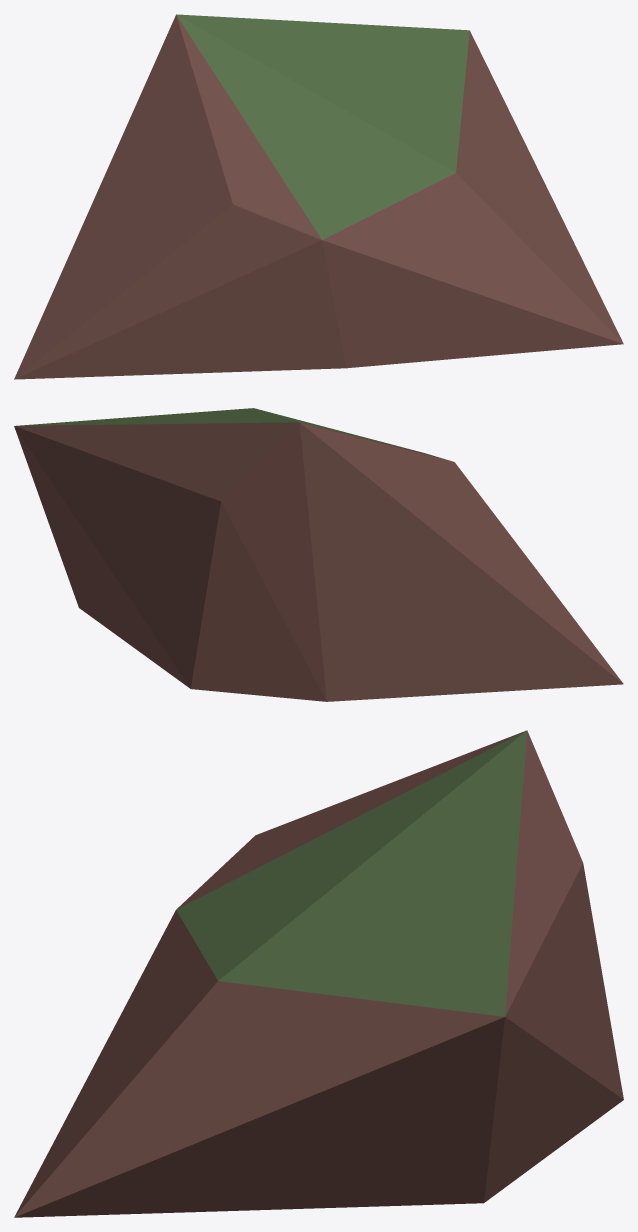
Rendered from TreeStump_Moss.lod4.glb.
3 renders of one model, top to bottom at view 1: azimuth 30°, elevation 25°; view 2: azimuth 150°, elevation 25°; view 3: azimuth 270°, elevation 25°, orthographic. The views are drawn at different scales.
Parts seen in each view (by area): view 1: TreeStump_Moss; view 2: TreeStump_Moss; view 3: TreeStump_Moss.
Boxes of the visible parts, bbox=[...] form: TreeStump_Moss: bbox=[14, 14, 623, 379]; TreeStump_Moss: bbox=[14, 408, 623, 701]; TreeStump_Moss: bbox=[14, 730, 623, 1217].
Bounding box in the file's own units: 1.36 × 0.6246 × 1.05.
